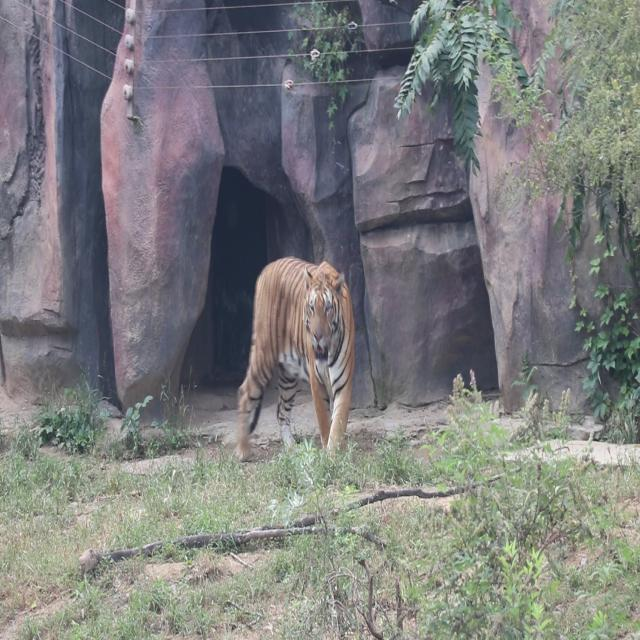Tiger: (233, 260, 353, 470)
